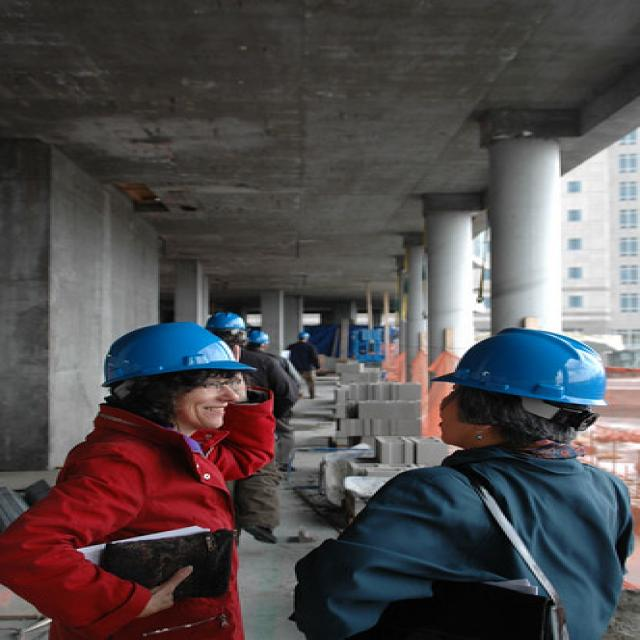Safety-Helmet: (426, 327, 613, 410), (83, 317, 260, 390), (200, 309, 252, 334)
